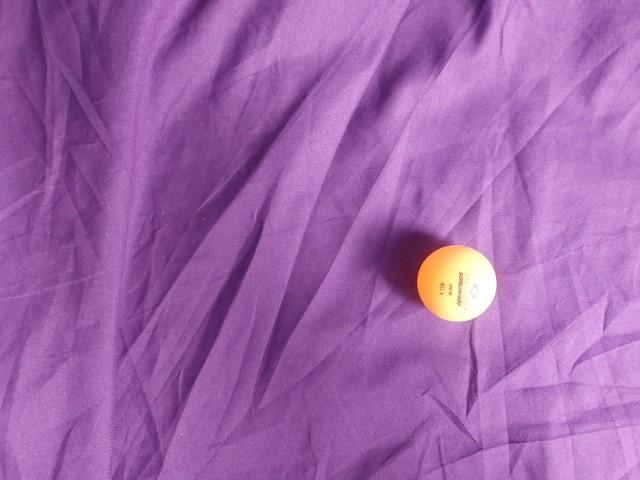oball: (133, 151, 229, 242)
